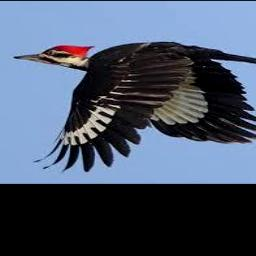Woodpecker: (14, 41, 256, 172)
